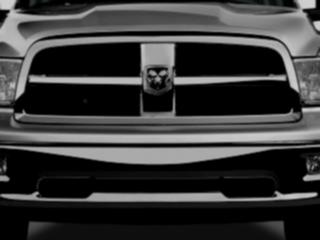ram: (140, 61, 178, 96)
